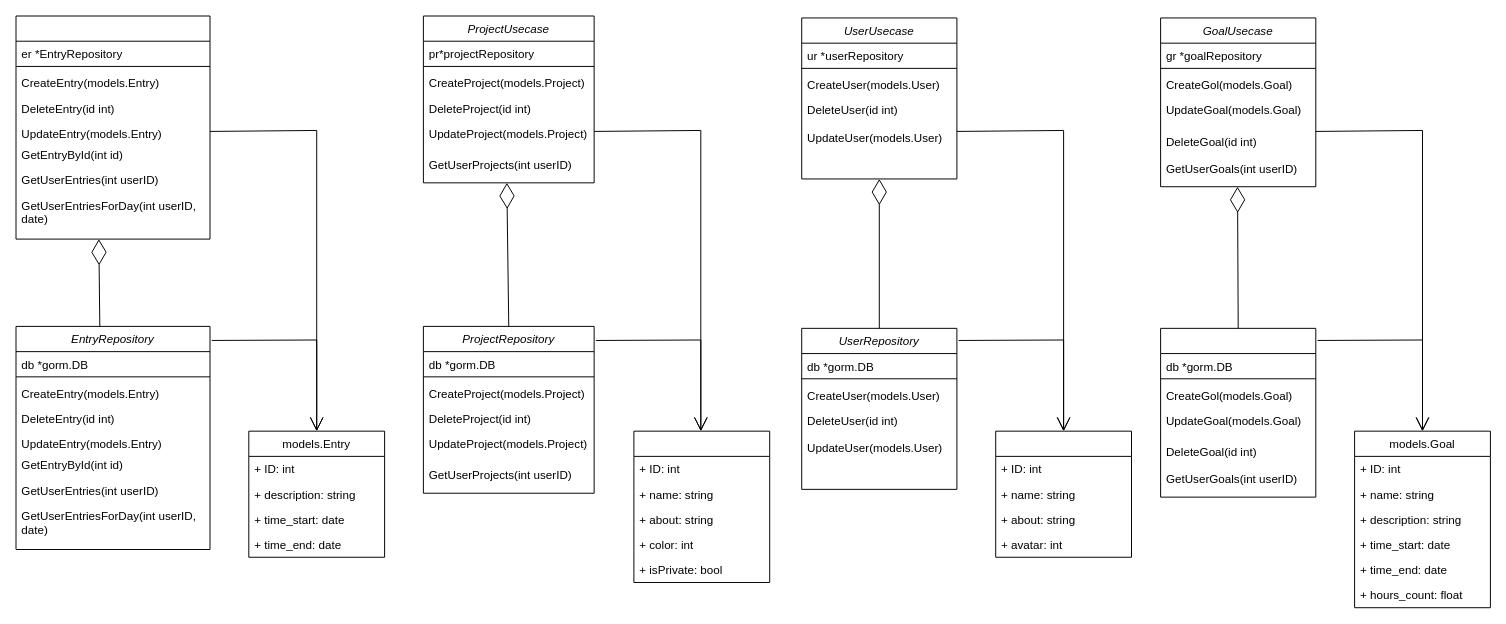
The diagram is 1506 pixels wide and 624 high, and some of its shapes have lost their labels. The box of each missing label's shape, as (x1, y1, x2, y2) in pixels:
EntryUsecase: (15, 15, 210, 239)
GoalRepository: (1160, 327, 1316, 497)
models.Project: (633, 430, 770, 582)
models.User: (995, 430, 1132, 557)
